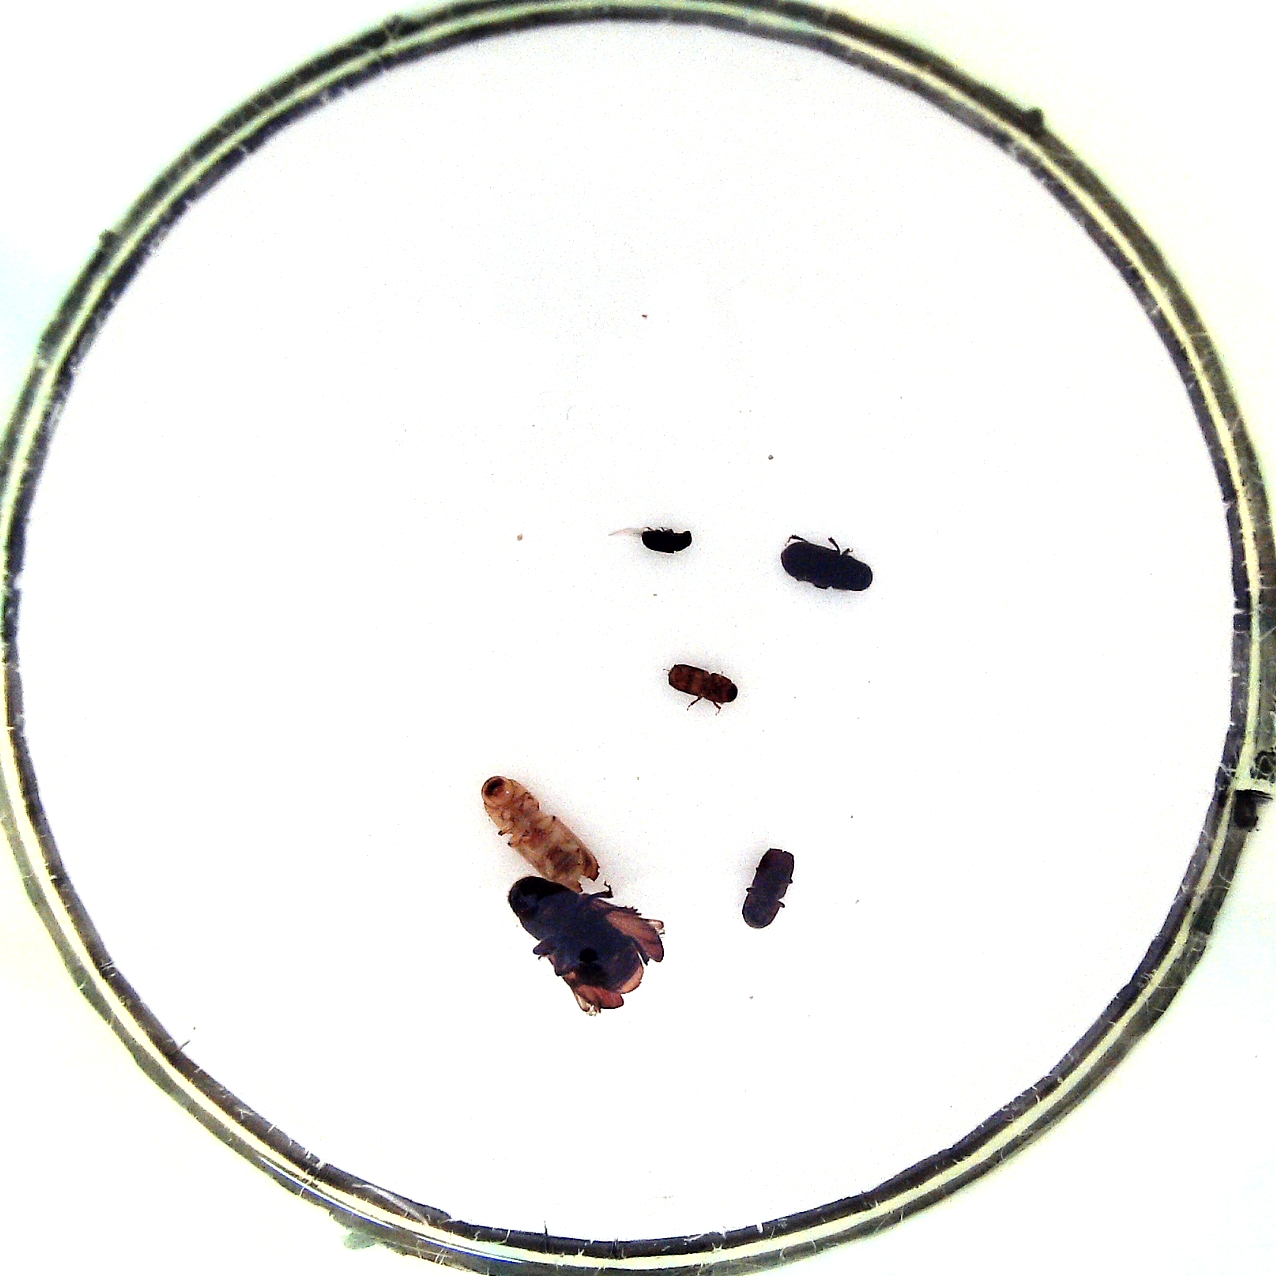Boerner: (477, 774, 605, 892)
Leconte: (505, 880, 664, 1019)
Linnaeus: (736, 844, 793, 929)
acuminatus: (661, 656, 738, 719)
armandi: (779, 530, 878, 592)
coleoptera: (631, 519, 700, 557)
